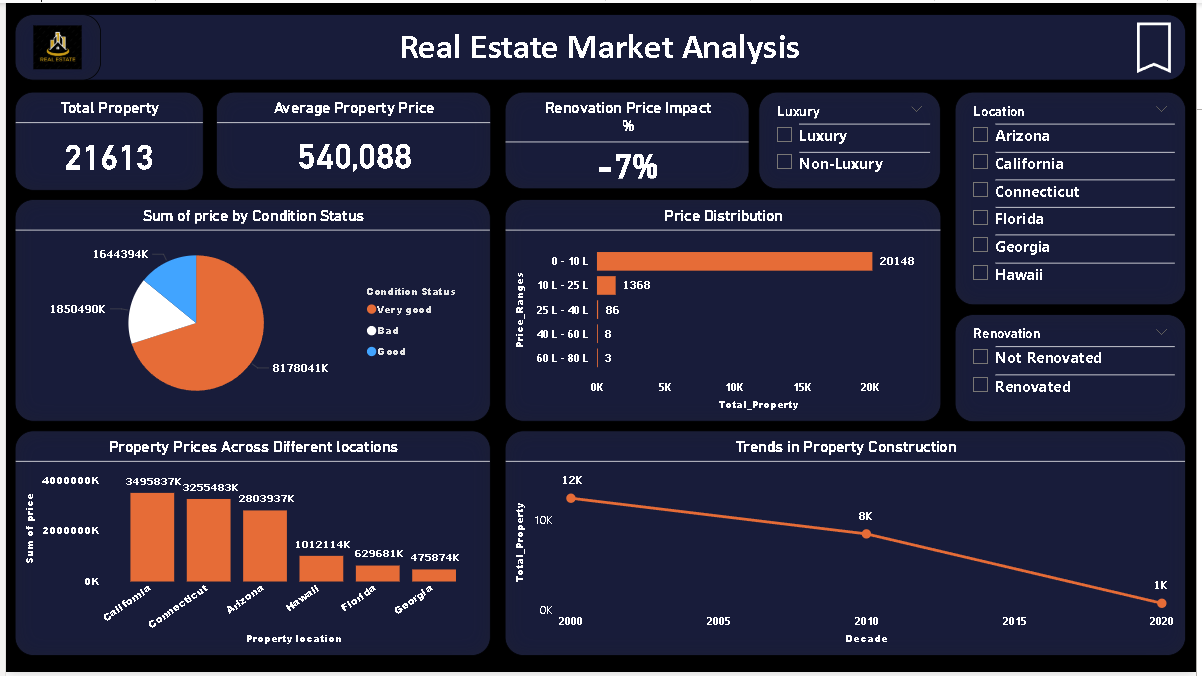

The page's visual inventory and layout, read from the dashboard file:
{"tool":"powerbi","page":{"name":"Dashboard","canvas":[1280,720],"ordinal":5},"visuals":[{"type":"textbox","box":[9.4,12.1,1260.1,71.3],"z":0},{"type":"card","title":"Total Property ","fields":{"Values":["Property Detailed Data.Total_No._Property"]},"box":[9.4,95.5,203.1,106.2],"z":1000},{"type":"card","title":"Average Property Price","fields":{"Values":["Property Detailed Data.Average_Property_Price"]},"box":[226.4,95.5,295.9,104.9],"z":2000},{"type":"card","title":"Renovation Price Impact %","fields":{"Values":["Property Detailed Data.Renovation_Price_Increase_%"]},"box":[536.6,95.5,263.6,104.9],"z":3000},{"type":"columnChart","title":"Property Prices Across Different locations ","fields":{"Category":["Location Data.Property location"],"Y":["Sum(Property Detailed Data.price)"]},"box":[9.4,459.9,512.4,242.1],"z":4000},{"type":"lineChart","title":"Trends in Property Construction ","fields":{"Category":["Property Detailed Data.Decade"],"Y":["Property Detailed Data.Total_Property"]},"box":[536.6,459.9,732.9,242.1],"z":5000},{"type":"pieChart","title":"Sum of price by Condition Status","fields":{"Y":["Sum(Property Detailed Data.price)"],"Category":["Condition Status.Condition Status"]},"box":[9.4,211.1,512.4,239.4],"z":6000},{"type":"slicer","fields":{"Values":["Property Detailed Data.Luxury"]},"box":[809.6,95.5,196.3,104.9],"z":7000},{"type":"slicer","fields":{"Values":["Property Detailed Data.Location"]},"box":[1020.7,95.5,248.8,230],"z":8000},{"type":"slicer","fields":{"Values":["Property Detailed Data.Renovation"]},"box":[1020.7,334.9,248.8,115.7],"z":9000},{"type":"barChart","title":"Price Distribution","fields":{"Category":["Property Detailed Data.Price_Ranges"],"Y":["Property Detailed Data.Total_Property"]},"box":[536.6,211.1,469.3,239.4],"z":10000},{"type":"actionButton","box":[1200.9,12.1,68.6,71.3],"z":11000},{"type":"image","box":[9.4,12.1,92.8,71.3],"z":12000}]}

Visuals, with their boxes in screenshot pixels (x1, y1, x2, y2), scaled from the page's 1280x720 canvas onto the 1202x676 screenshot:
textbox: [9, 11, 1192, 78]
"Total Property " card: [9, 90, 200, 189]
"Average Property Price" card: [213, 90, 490, 188]
"Renovation Price Impact %" card: [504, 90, 751, 188]
"Property Prices Across Different locations " columnChart: [9, 432, 490, 659]
"Trends in Property Construction " lineChart: [504, 432, 1192, 659]
"Sum of price by Condition Status" pieChart: [9, 198, 490, 423]
slicer - Property Detailed Data.Luxury: [760, 90, 945, 188]
slicer - Property Detailed Data.Location: [959, 90, 1192, 306]
slicer - Property Detailed Data.Renovation: [959, 314, 1192, 423]
"Price Distribution" barChart: [504, 198, 945, 423]
actionButton: [1128, 11, 1192, 78]
image: [9, 11, 96, 78]
